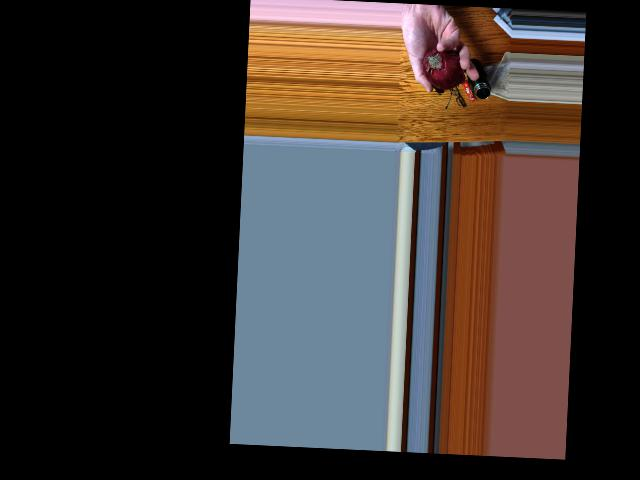onion: (419, 42, 459, 89)
